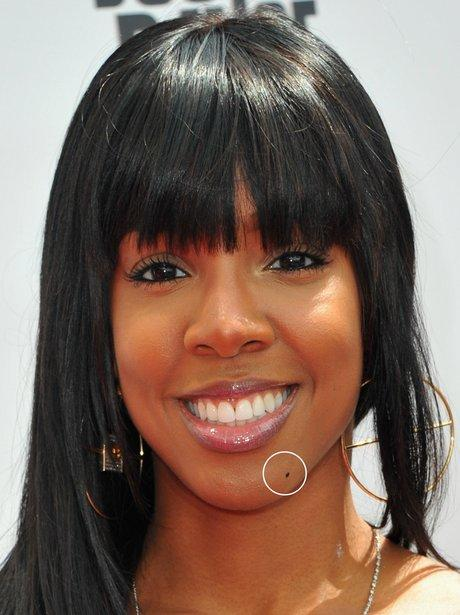mole: (280, 470, 294, 482)
